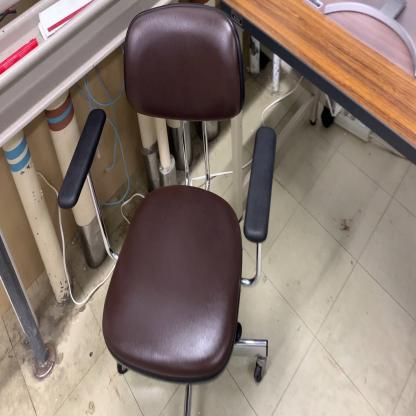chair: (56, 4, 276, 416)
